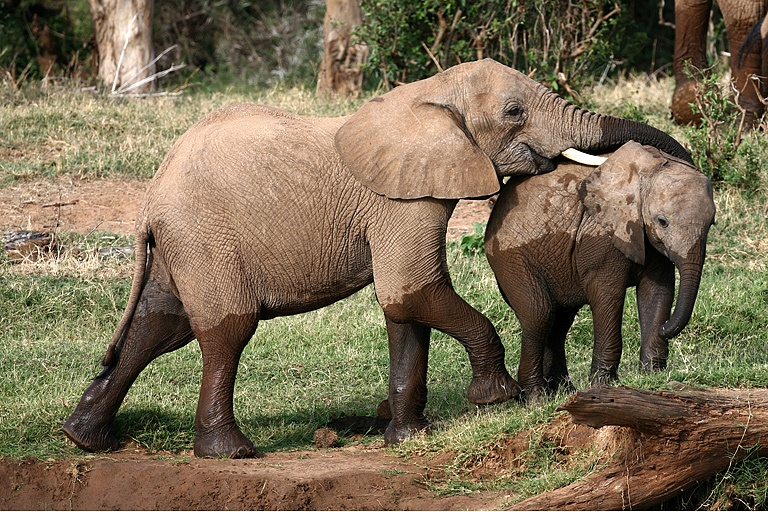elephant: (69, 59, 690, 457), (482, 142, 718, 412)
